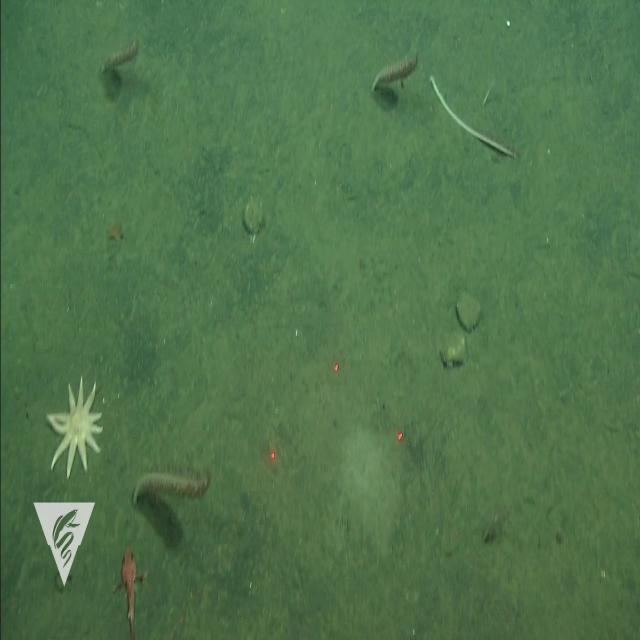Not Brittle Star: (44, 369, 109, 479), (115, 544, 148, 640)
